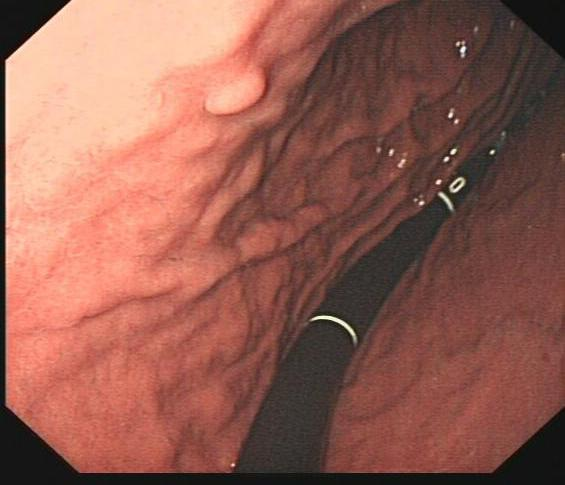Polyp: (198, 61, 269, 123)
